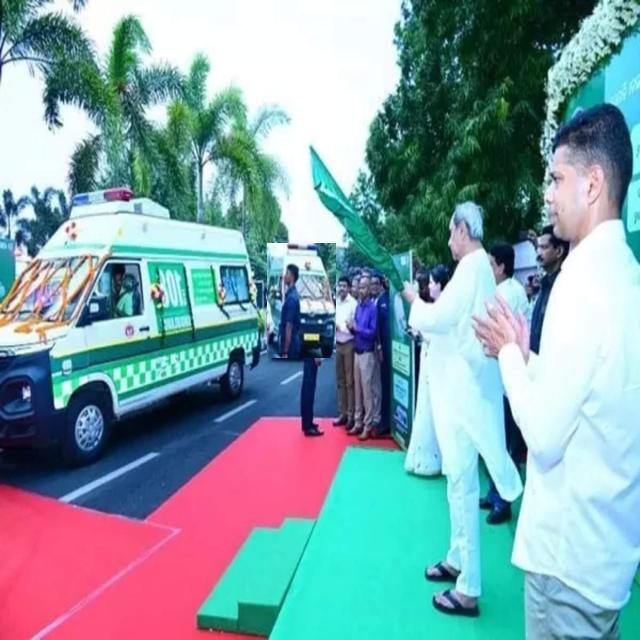emergency: (0, 188, 260, 465), (267, 244, 335, 358)
